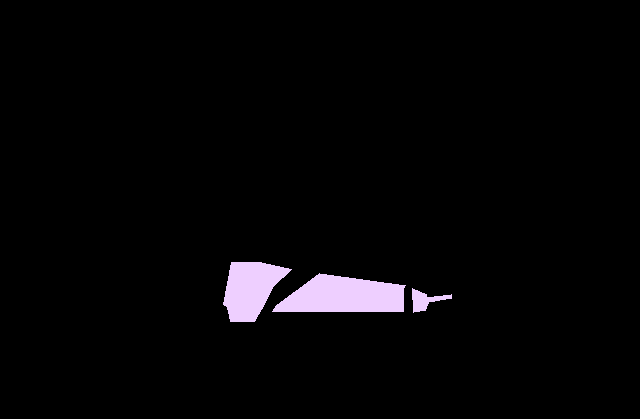Train: (223, 262, 451, 321)
